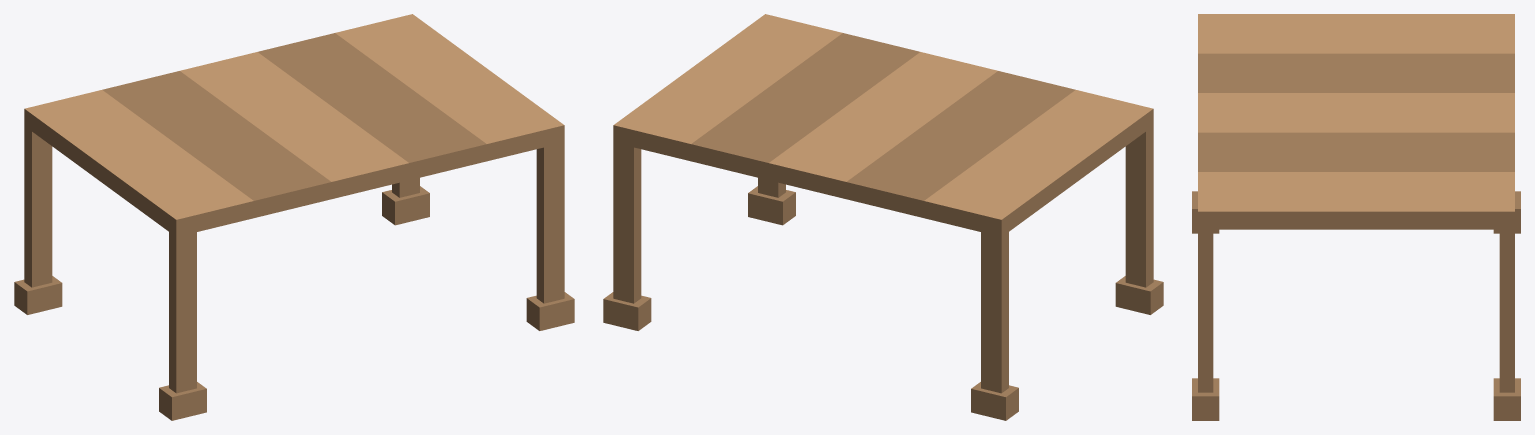
File: table02.fbx
The picture shows the model from 3 angles, left to right: view 1: azimuth 30°, elevation 25°; view 2: azimuth 150°, elevation 25°; view 3: azimuth 270°, elevation 25°; orthographic projection. The views are drawn at different scales.
Parts seen in each view (by area): view 1: table01_color01.001; view 2: table01_color01.001; view 3: table01_color01.001.
Boxes of the visible parts, left/top/right/bottom form: table01_color01.001: left=14, top=14, right=574, bottom=420; table01_color01.001: left=603, top=14, right=1163, bottom=420; table01_color01.001: left=1192, top=14, right=1520, bottom=420.
Bounding box in the file's own units: 147 × 68.86 × 99.72.
